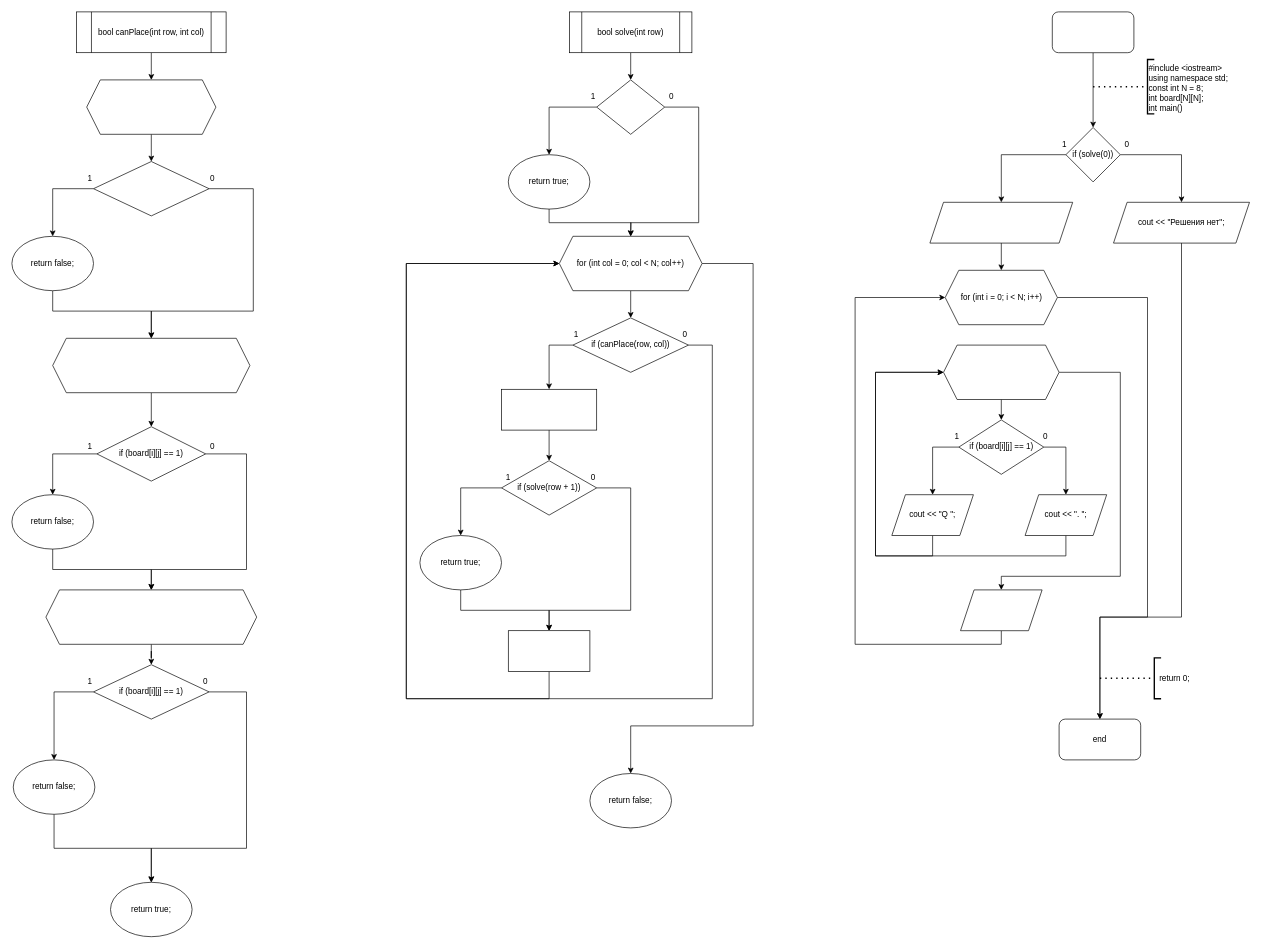
The diagram is 1261 pixels wide and 949 high, and some of its shapes have lost their labels. Here are the shapes that lost their labels. From the top down, the centre of each, then its label:
(1093,32): start
(151,106): for (int i = 0; i < row; i++)
(630,106): if (row == N)
(151,188): if (board[i][col] == 1)
(1001,222): cout << "Решение:" << endl;
(151,365): for (int i = row - 1, j = col - 1; i >= 0 && j >= 0; i--, j--)
(1001,372): for (int j = 0; j < N; j++)
(549,409): board[row][col] = 1;
(151,616): for (int i = row - 1, j = col + 1; i >= 0 && j < N; i--, j++)
(1001,610): cout << endl;
(549,651): board[row][col] = 0;
